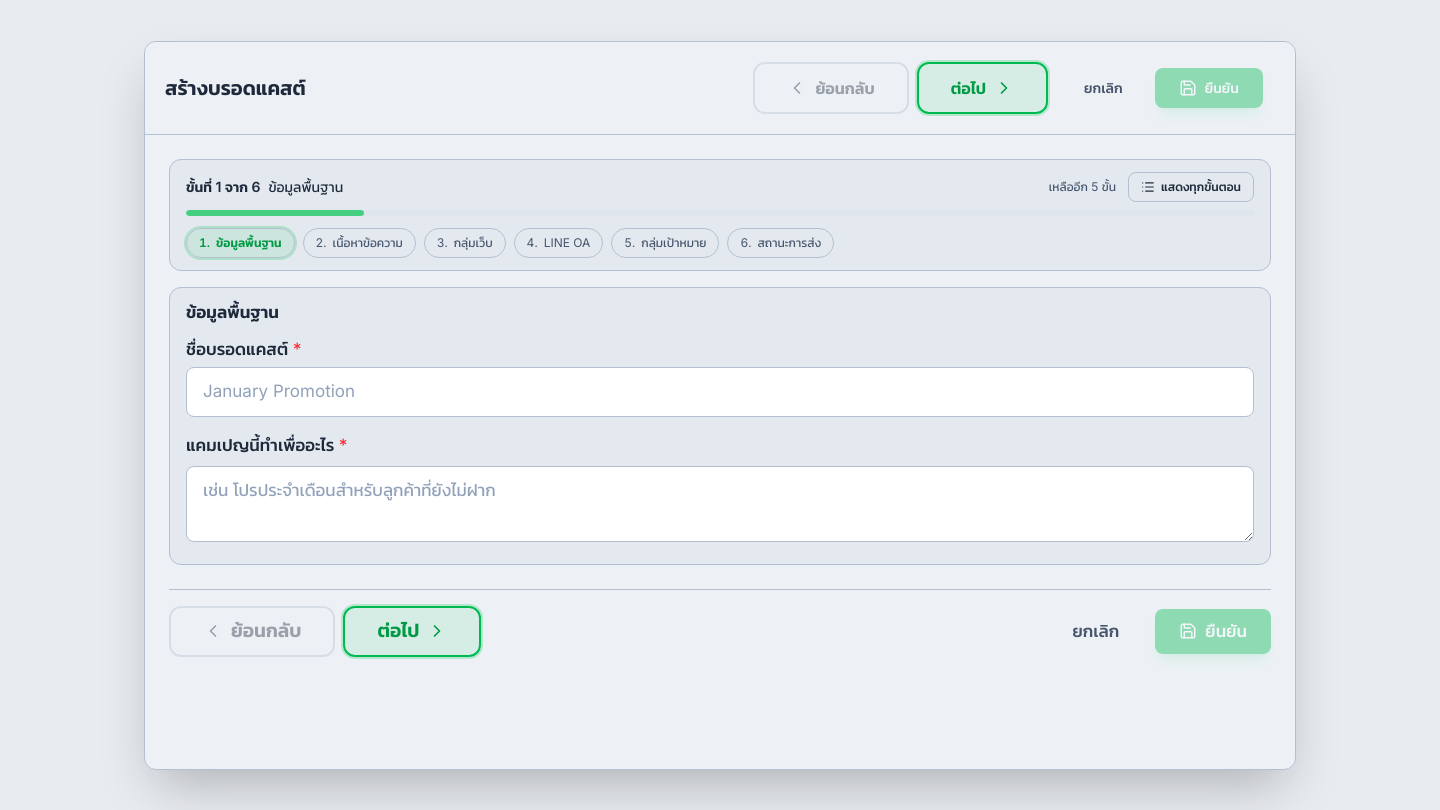
Test: [FEAT-20260824-BCASTMINT] ปุ่ม mint บนฟอร์มจริง › 🔴 กด mint แล้วเงื่อนไขไปโผล่ใน rule builder จริง (ค่าไหลกลับเข้า formData)
Click the button with test id "-toggle" at (1191,186), box [1128,172,1254,202]
(page scrolled)
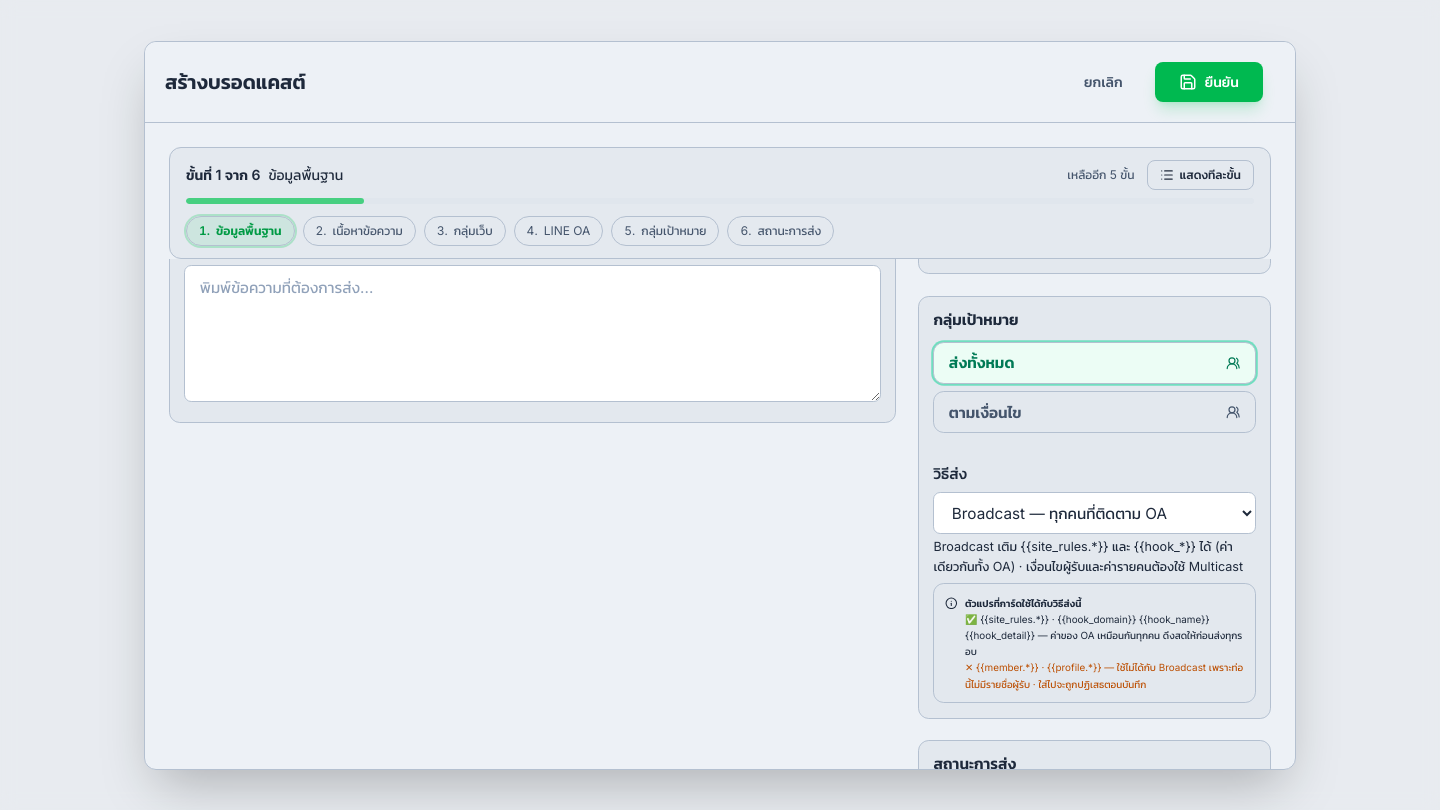
Select "Multicast — เฉพาะคนที่ตรงเงื่อนไข" in the dropdown named "send_kind" at (1095,513), box [934,492,1256,534]
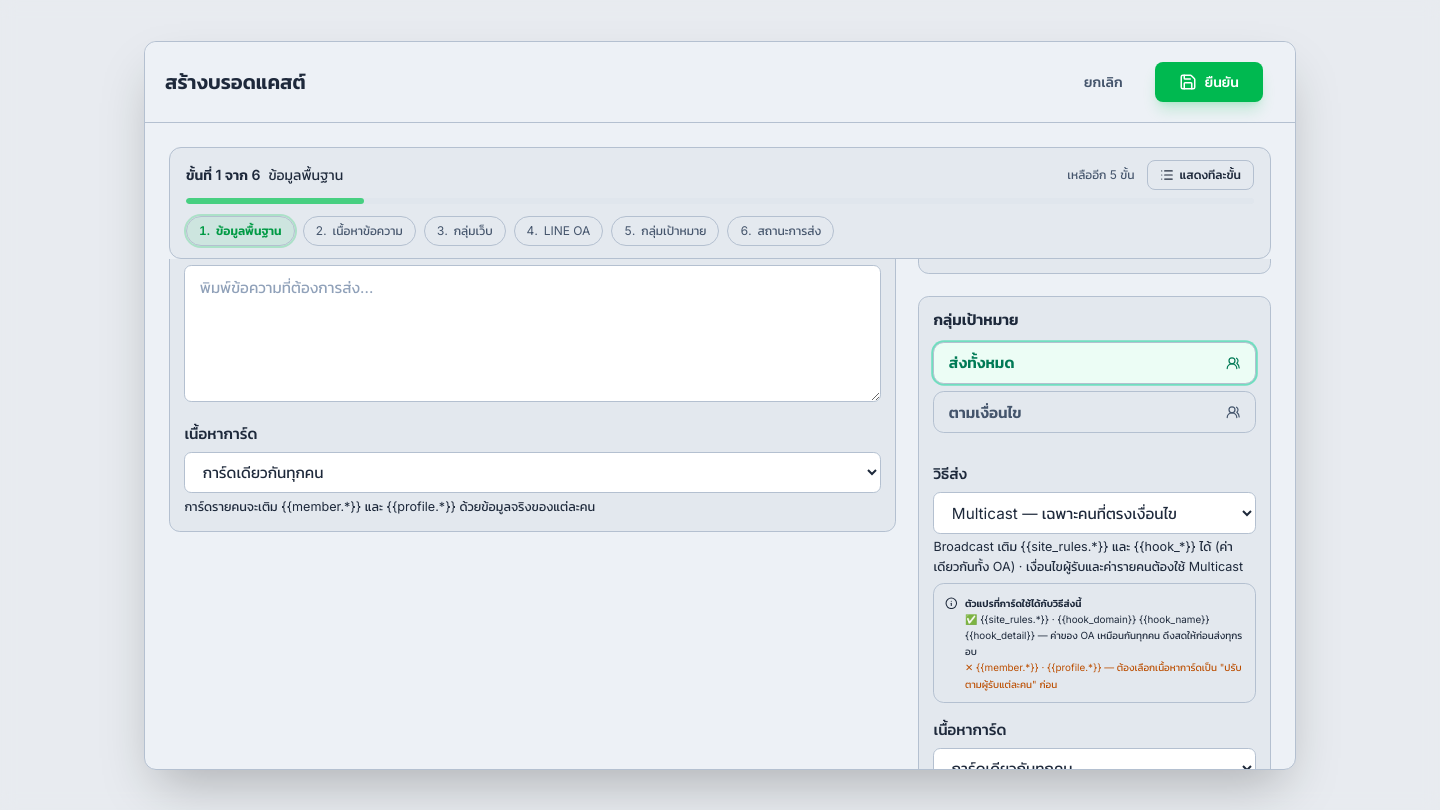
Check: the button named "target_rules" is shown
Click the button named "target_rules" at (985,412), box [934,391,1256,433]
(page scrolled)
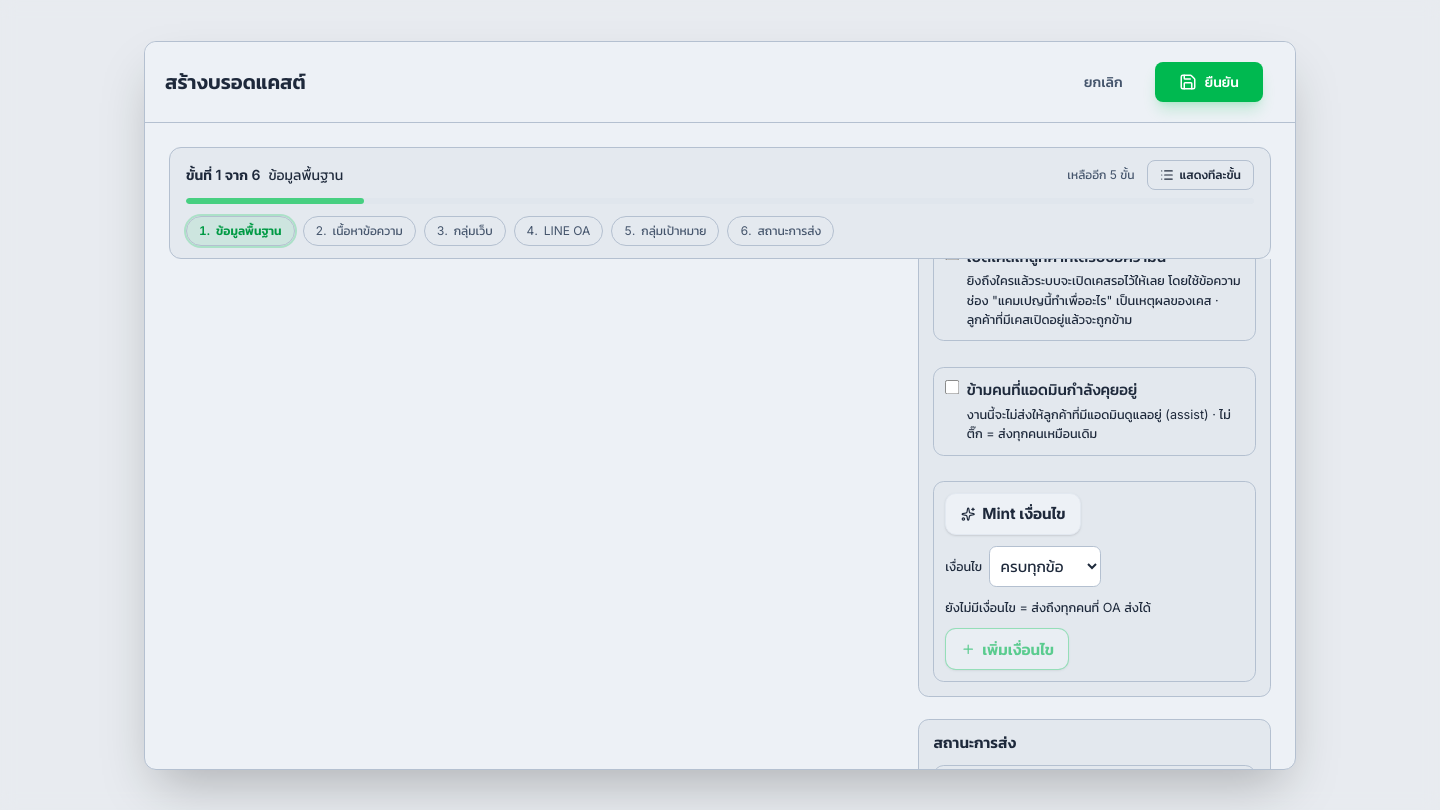
Click the button "Mint เงื่อนไข" at (1013,514), box [945,493,1081,535]
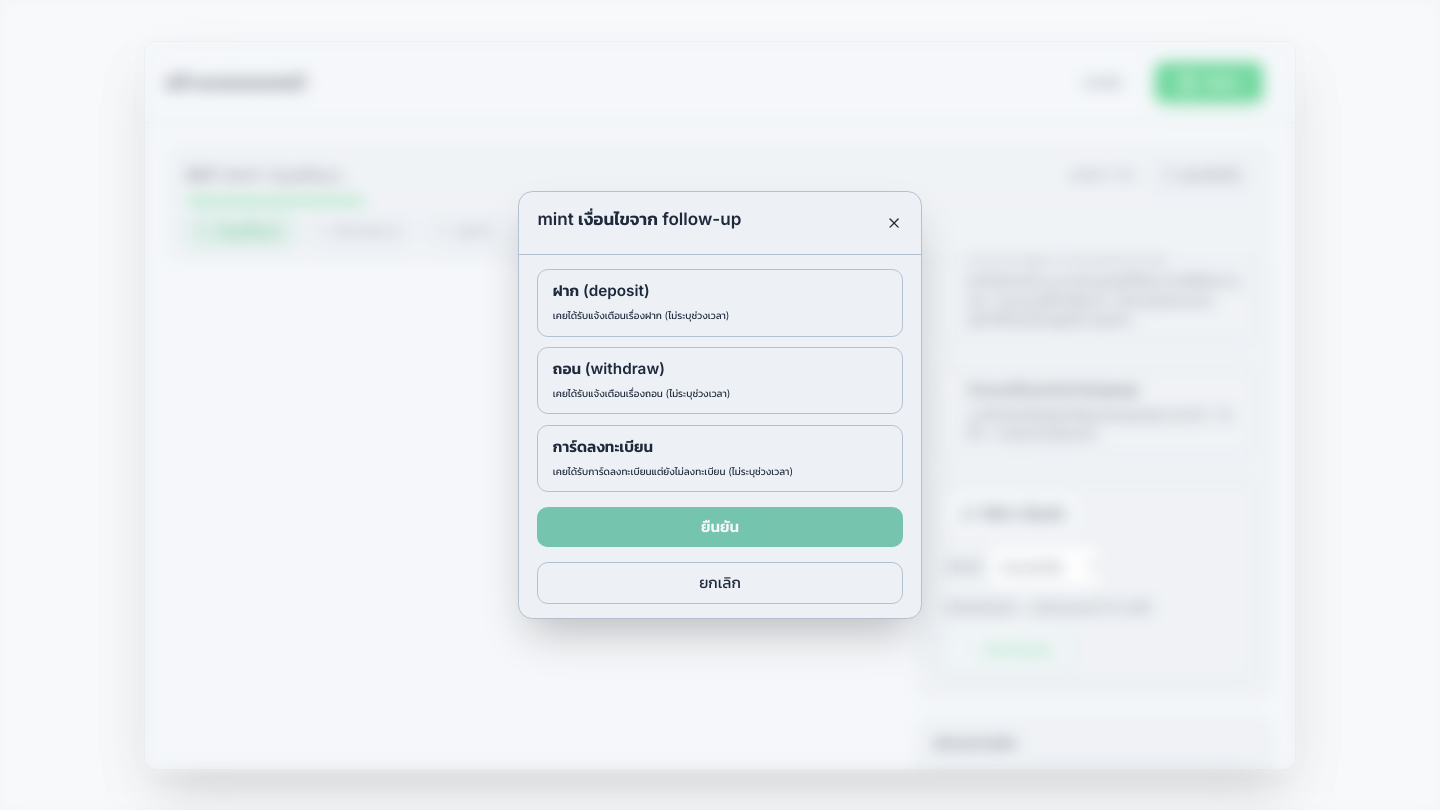
Click the button "ฝาก (deposit) เคยได้รับแจ้งเตือนเรื่องฝาก (ไม่ระบุช่วงเวลา)" at (601,291), box [537,269,903,336]
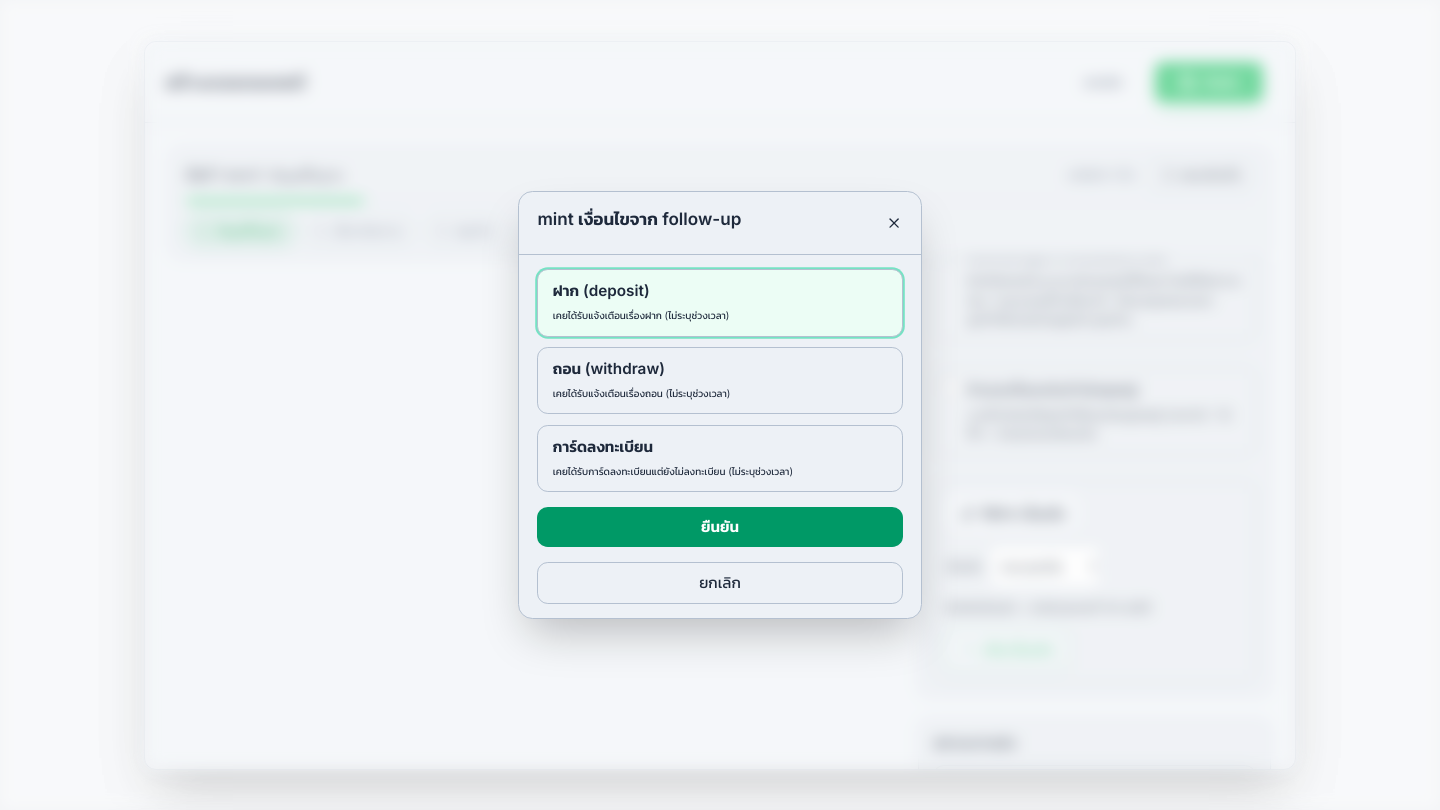
Click the button "ยืนยัน" at (720,527), box [537,507,903,547]
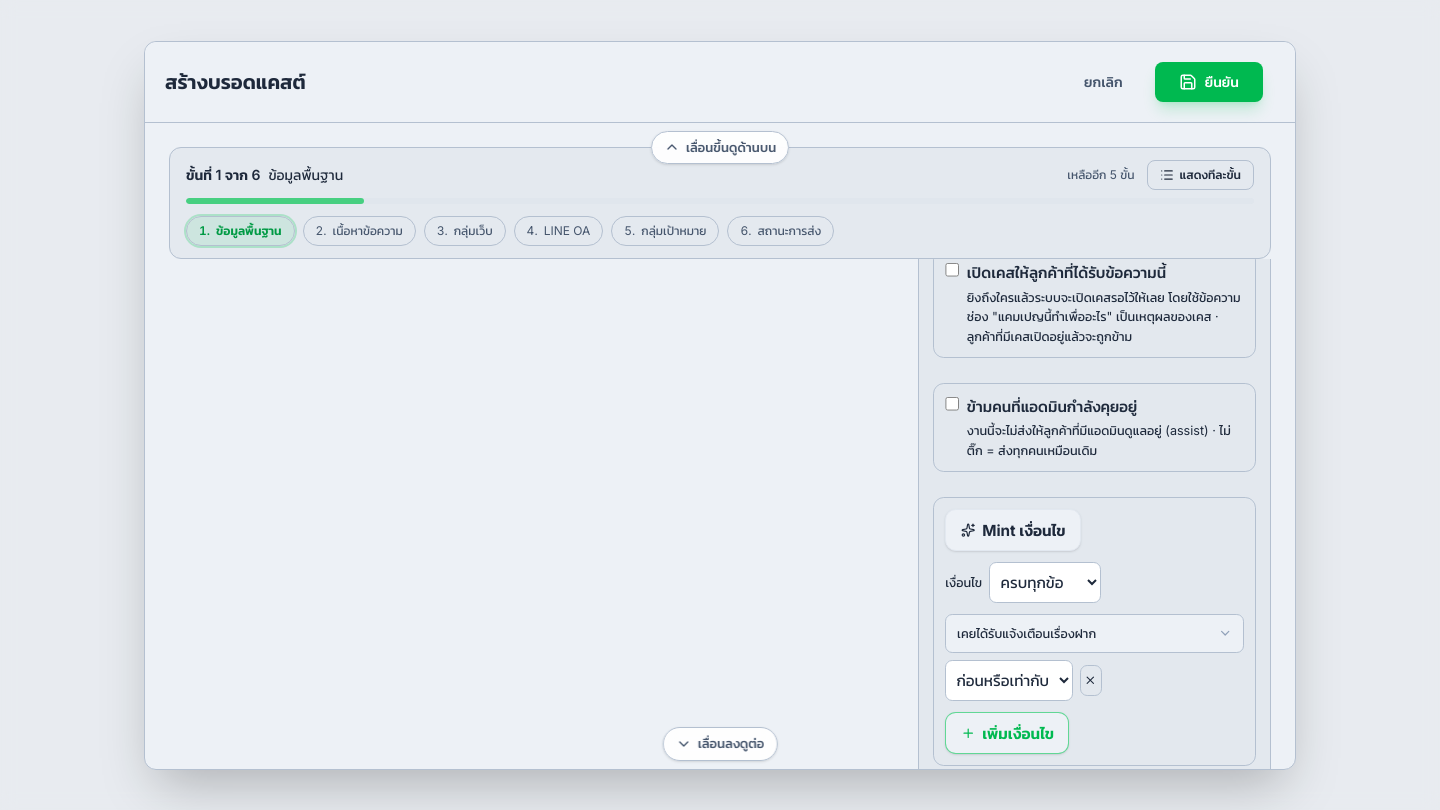
Check: the 2nd dropdown shows "ก่อนหรือเท่ากับ", box [945,660,1073,701]
